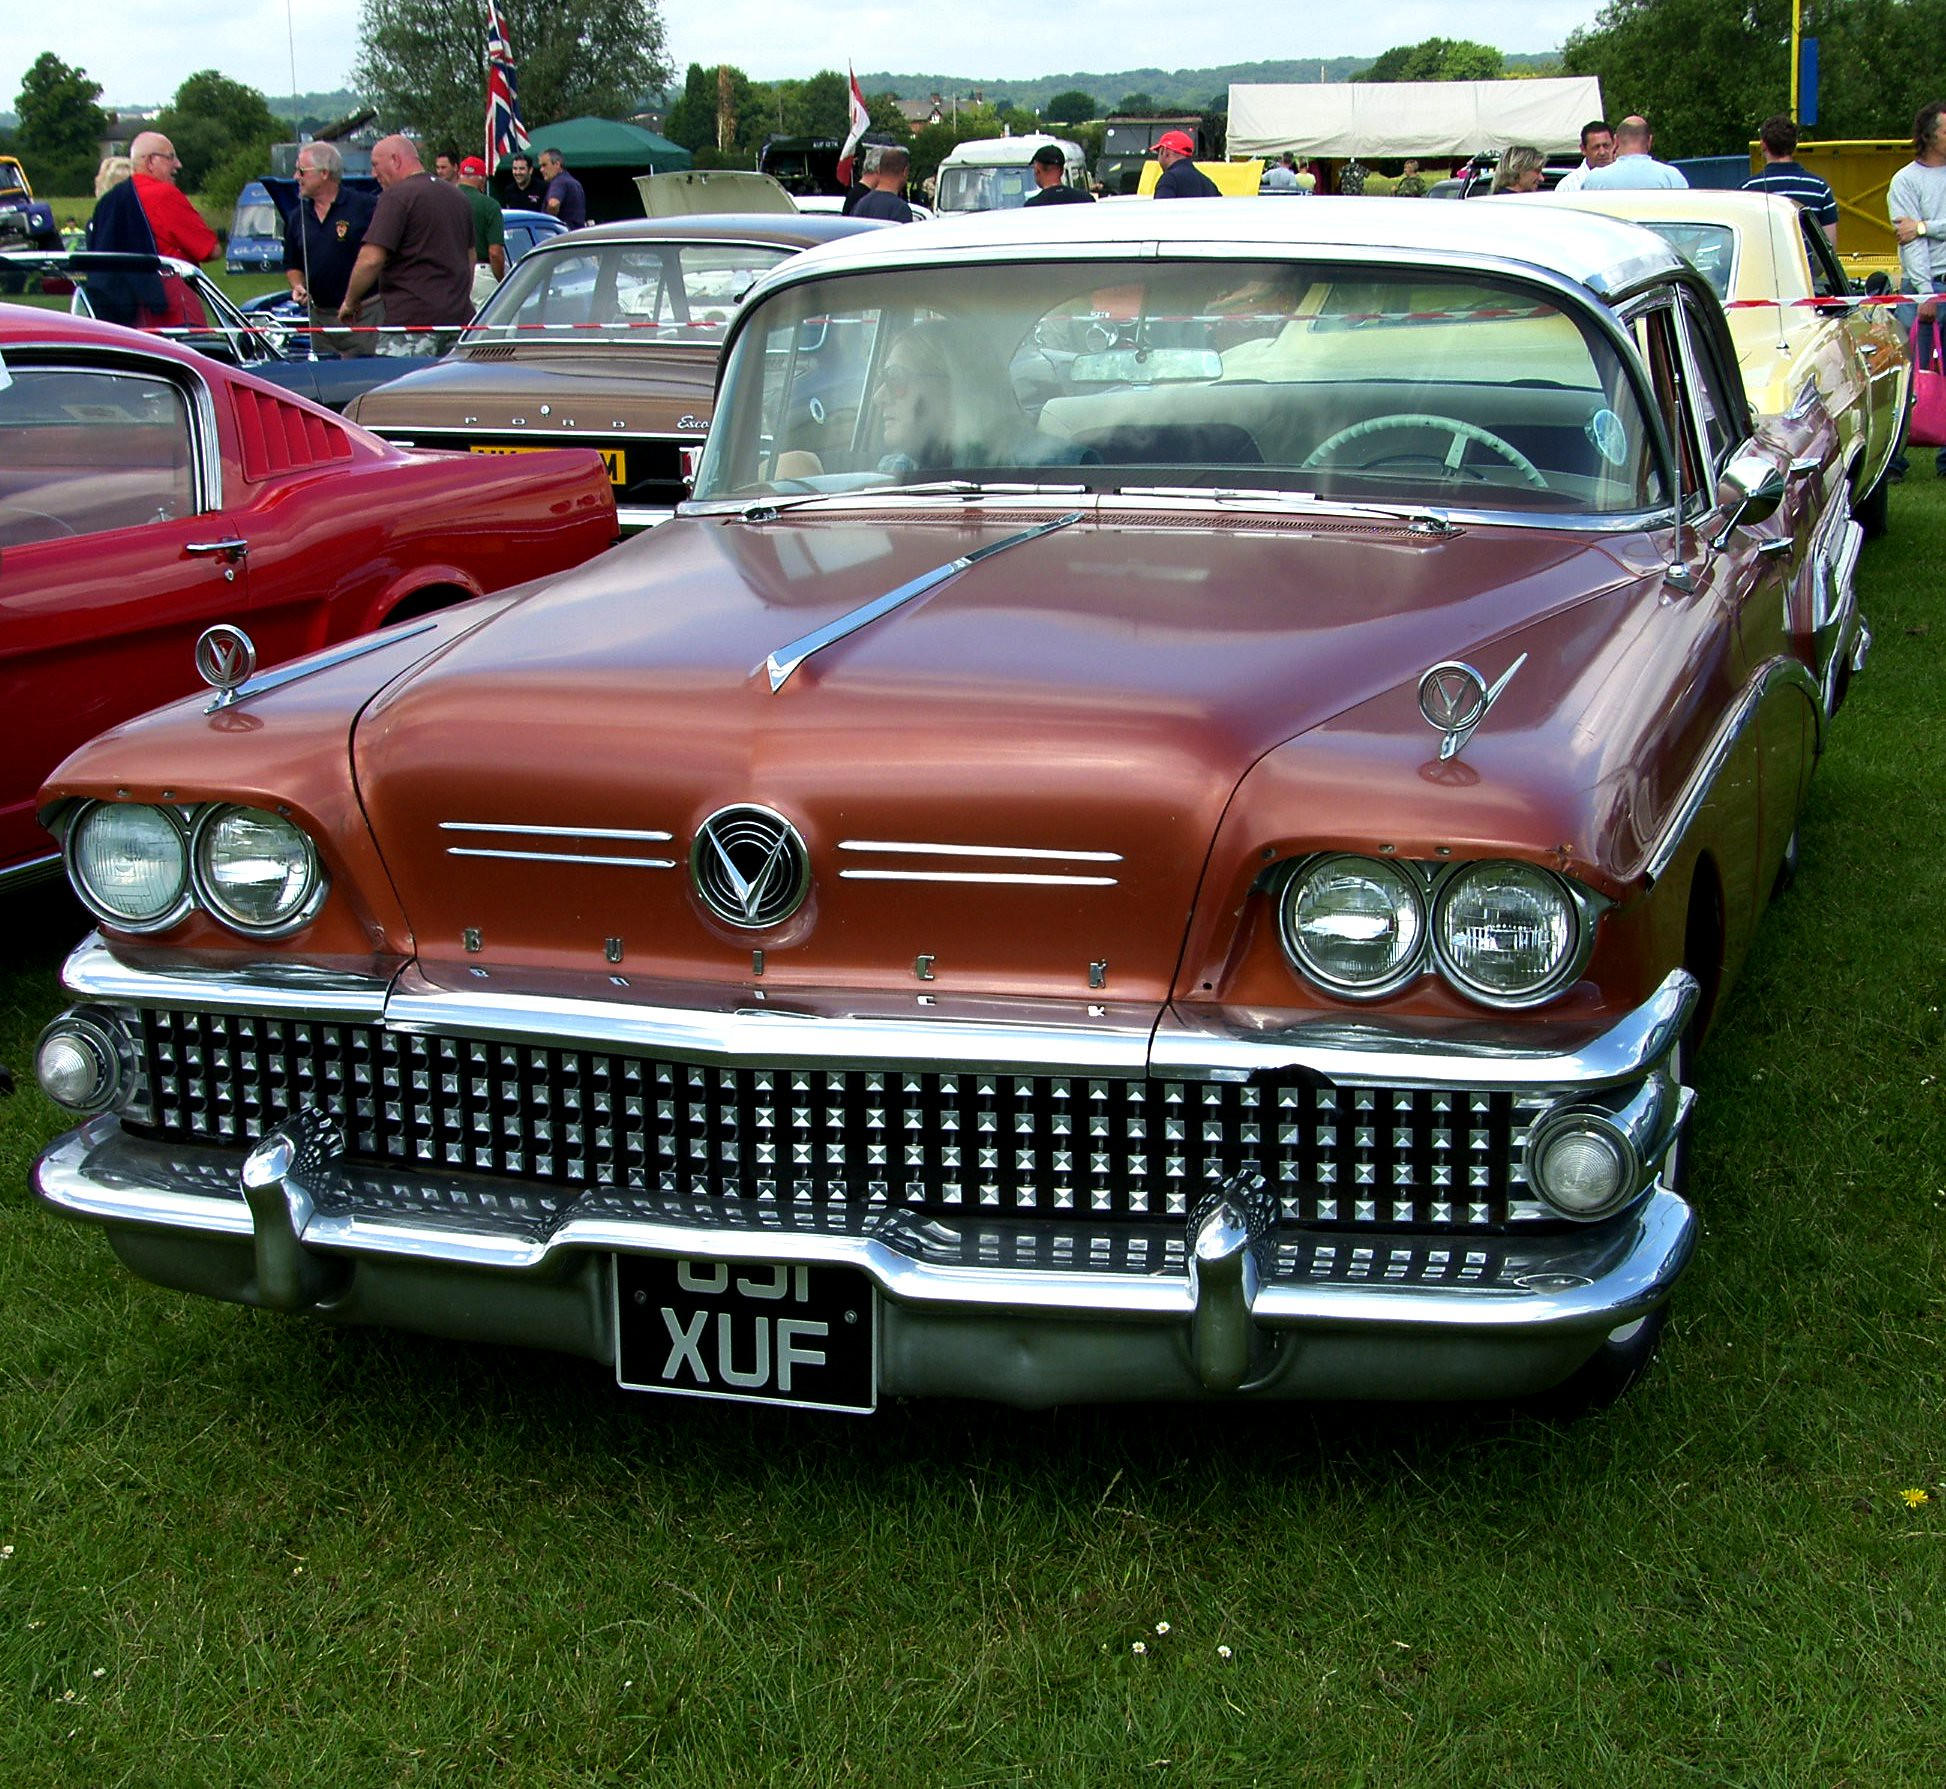car: (87, 226, 1810, 1387)
person: (853, 336, 1087, 483), (81, 140, 227, 338), (368, 134, 483, 336), (278, 141, 376, 294)
